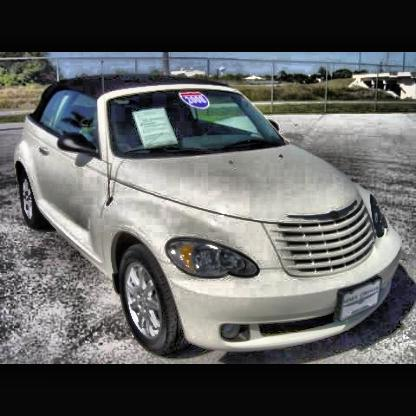Chrysler PT Cruiser Convertible 2008: (13, 76, 405, 357)
